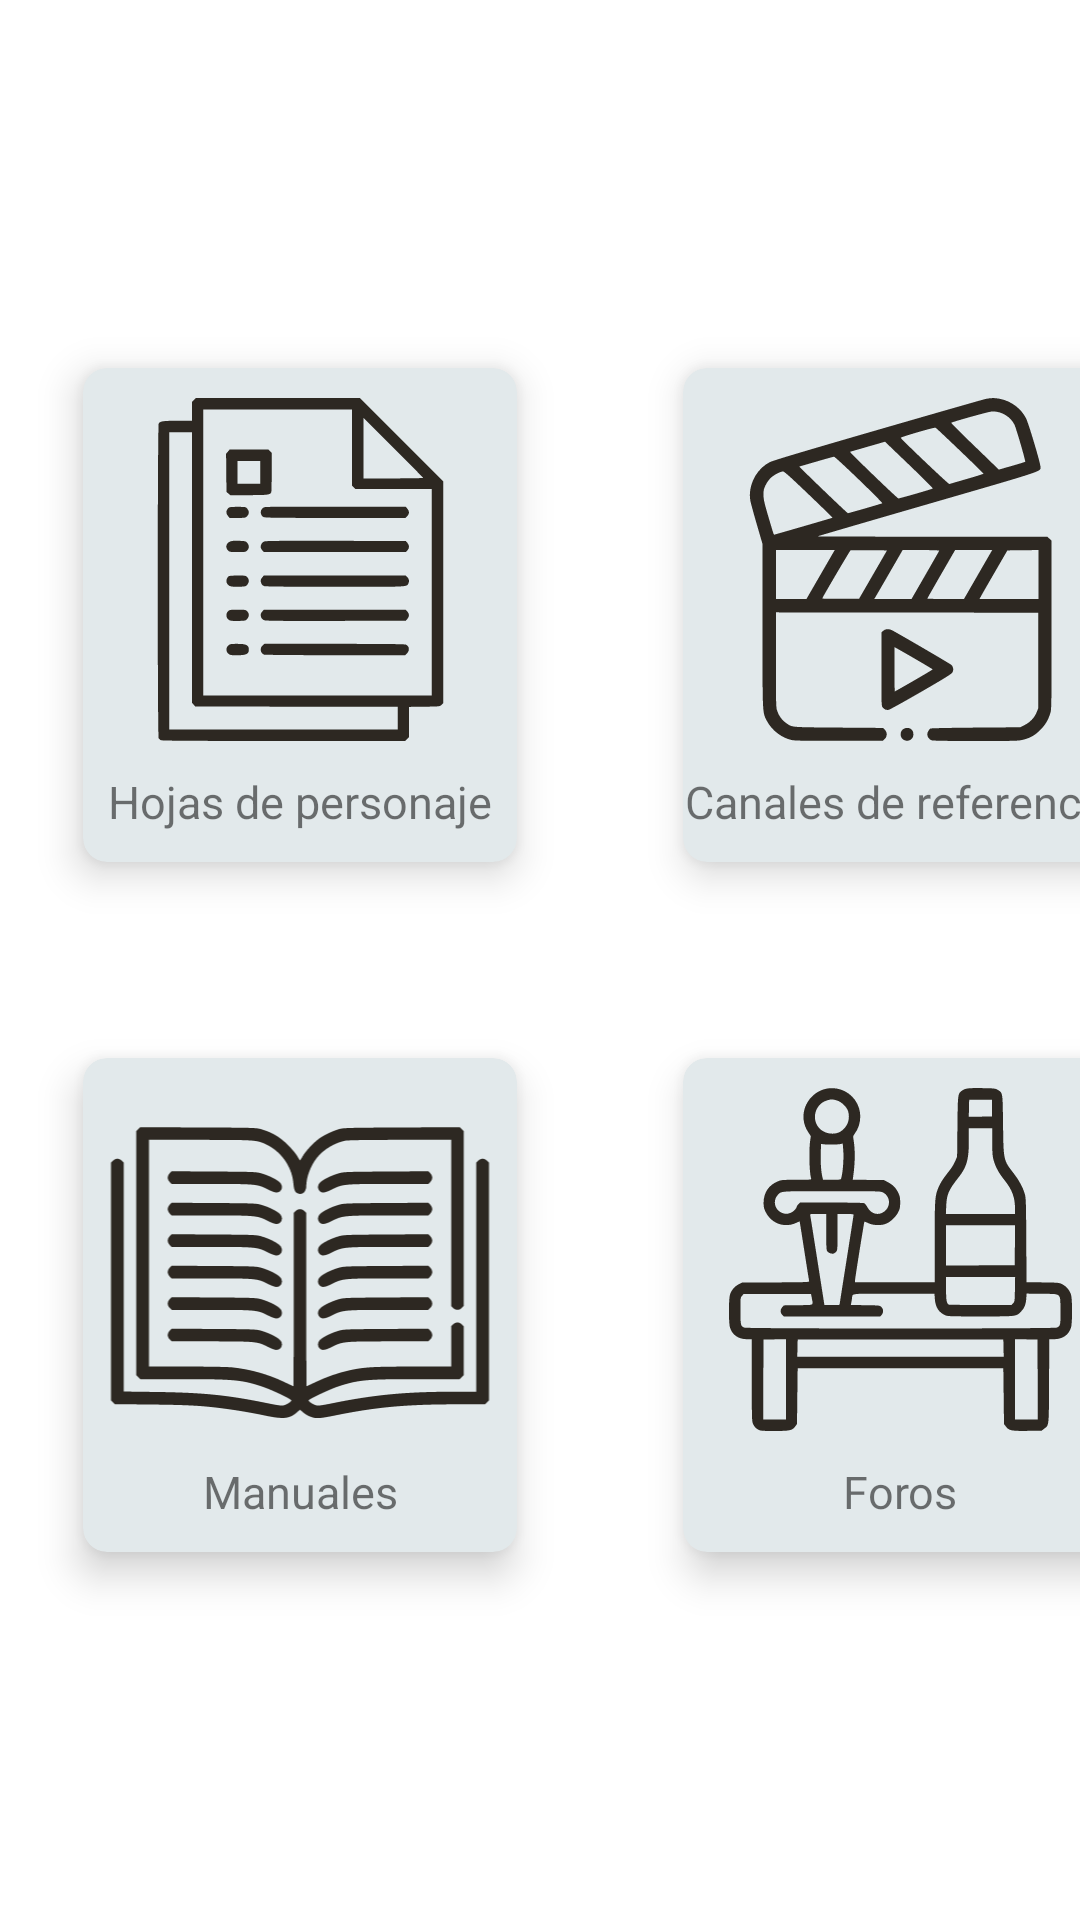

Named icons in this screenshot (1080x1920) and their centers, [x,y]:
document: [300,569]
video: [900,569]
